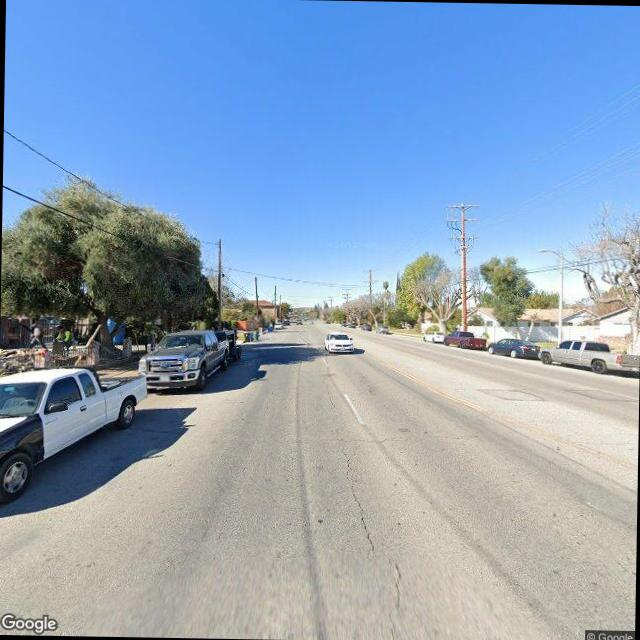pothole: (336, 446, 379, 557), (380, 556, 406, 640)
